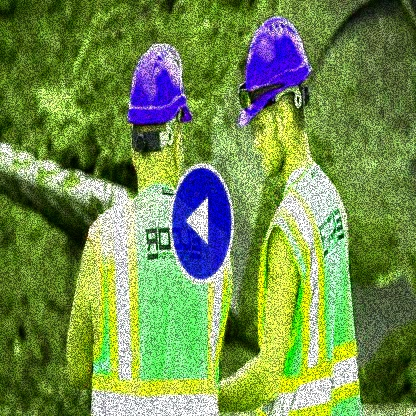blue: (234, 11, 317, 130), (126, 38, 199, 130)
vest: (87, 172, 237, 412), (250, 157, 360, 415)
